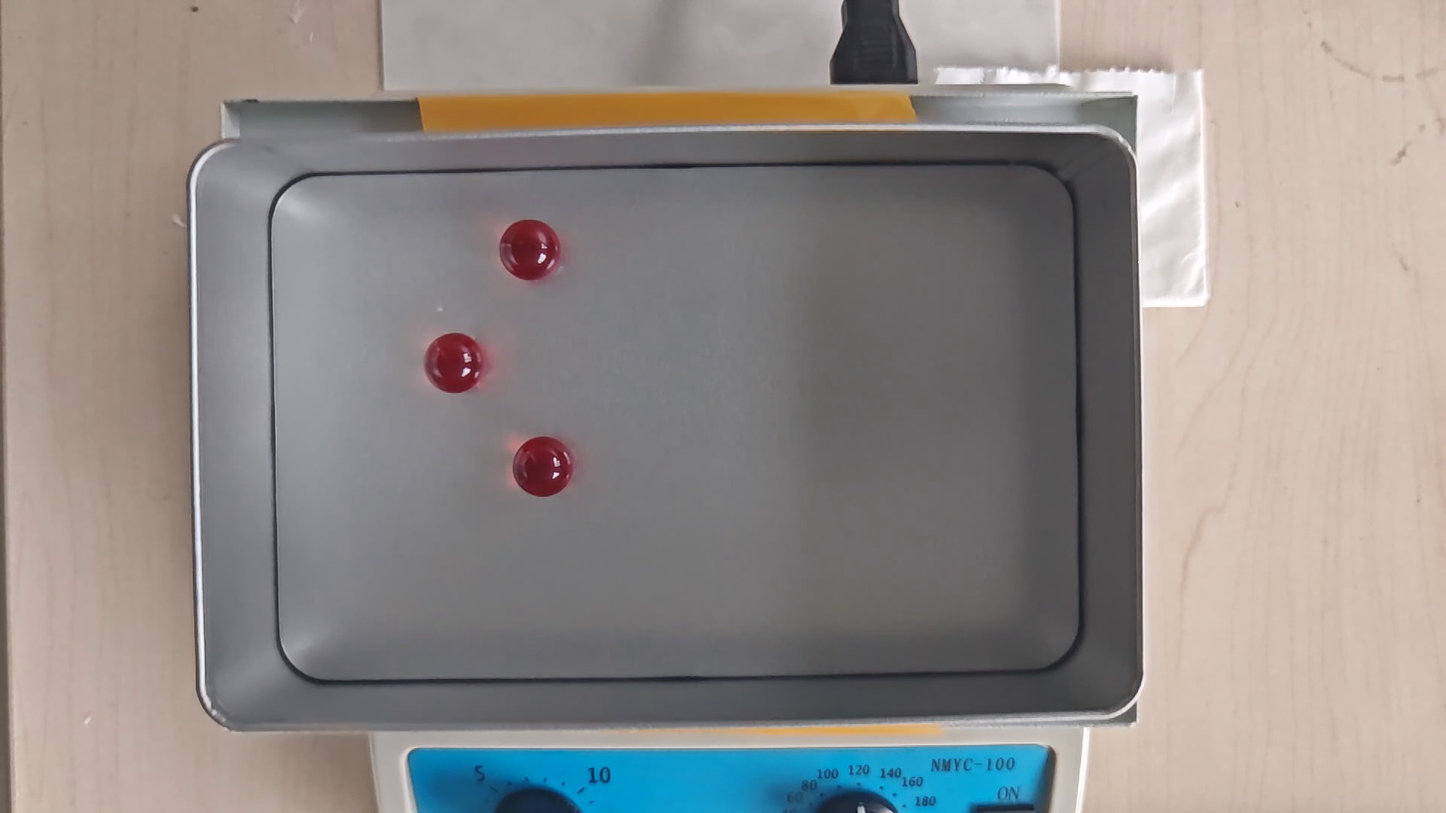ball: (512, 435, 576, 498), (499, 218, 561, 282), (423, 331, 484, 394)
container: (271, 166, 1080, 673)
